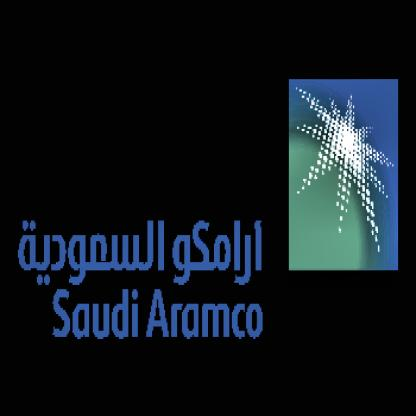Aramco: (291, 80, 397, 268), (145, 285, 263, 340)
